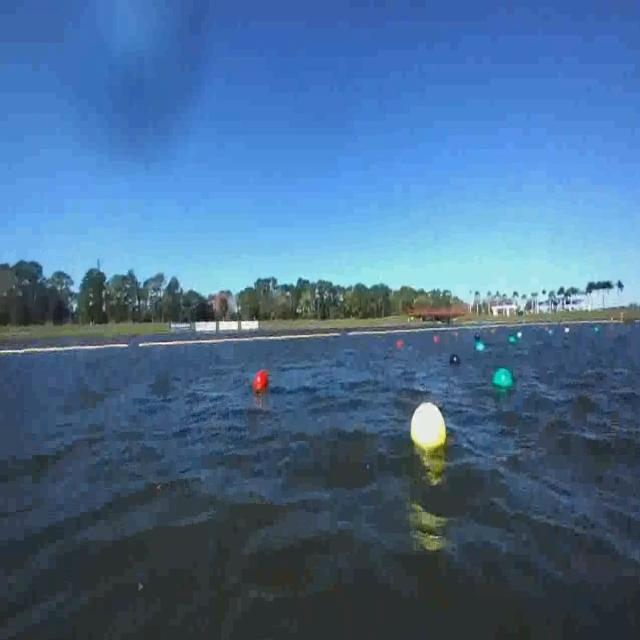black-buoy: (448, 353, 459, 367)
green-buoy: (493, 367, 512, 389)
red-buoy: (257, 370, 270, 390)
yellow-buoy: (410, 404, 447, 454)
